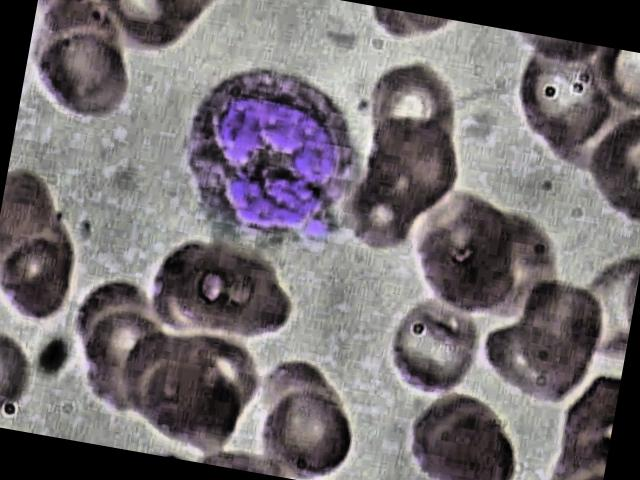RBC: (390, 175, 530, 322), (168, 231, 308, 348), (24, 20, 144, 132), (350, 110, 470, 222), (500, 44, 620, 156), (378, 291, 490, 410), (136, 348, 244, 456), (358, 54, 472, 156), (253, 380, 362, 480), (415, 401, 528, 480), (0, 231, 84, 328)
WBC: (165, 49, 384, 261)
